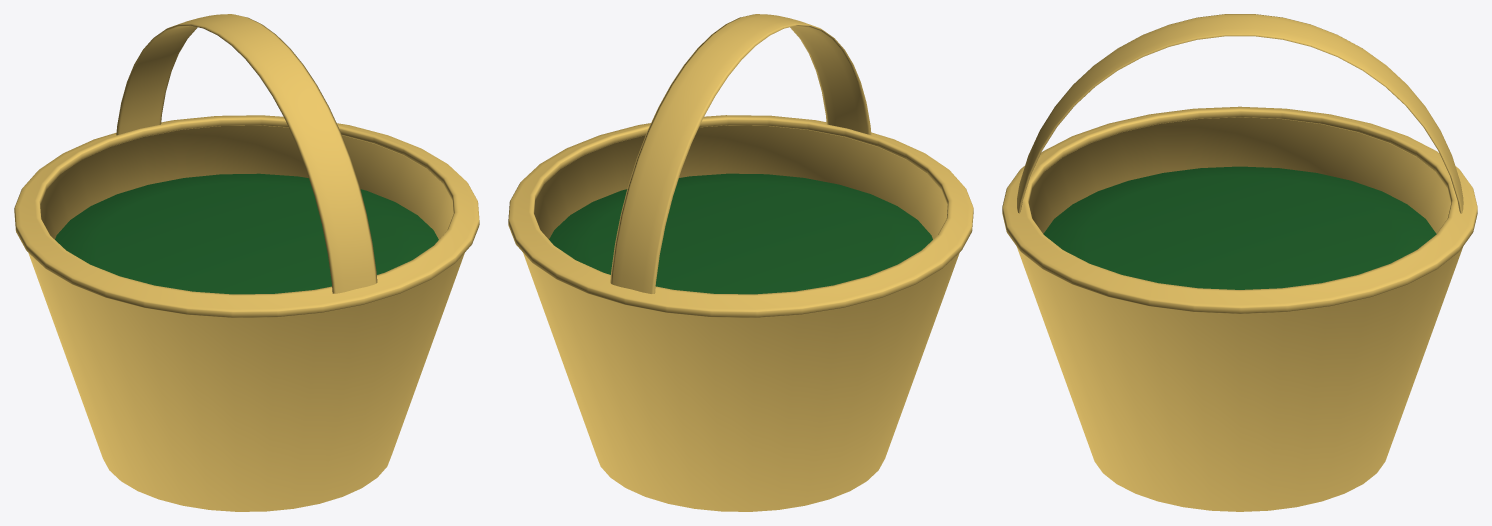
File: basket.fbx
3 renders of one model, left to right at view 1: azimuth 30°, elevation 25°; view 2: azimuth 150°, elevation 25°; view 3: azimuth 270°, elevation 25°, orthographic. The views are drawn at different scales.
Parts seen in each view (by area): view 1: basket; view 2: basket; view 3: basket.
Part boxes in pixels (box(x1,y1,x2,y2)): basket: box(14, 14, 479, 511); basket: box(508, 14, 973, 511); basket: box(1002, 14, 1477, 511).
Bounding box in the file's own units: 321 × 317 × 321.
